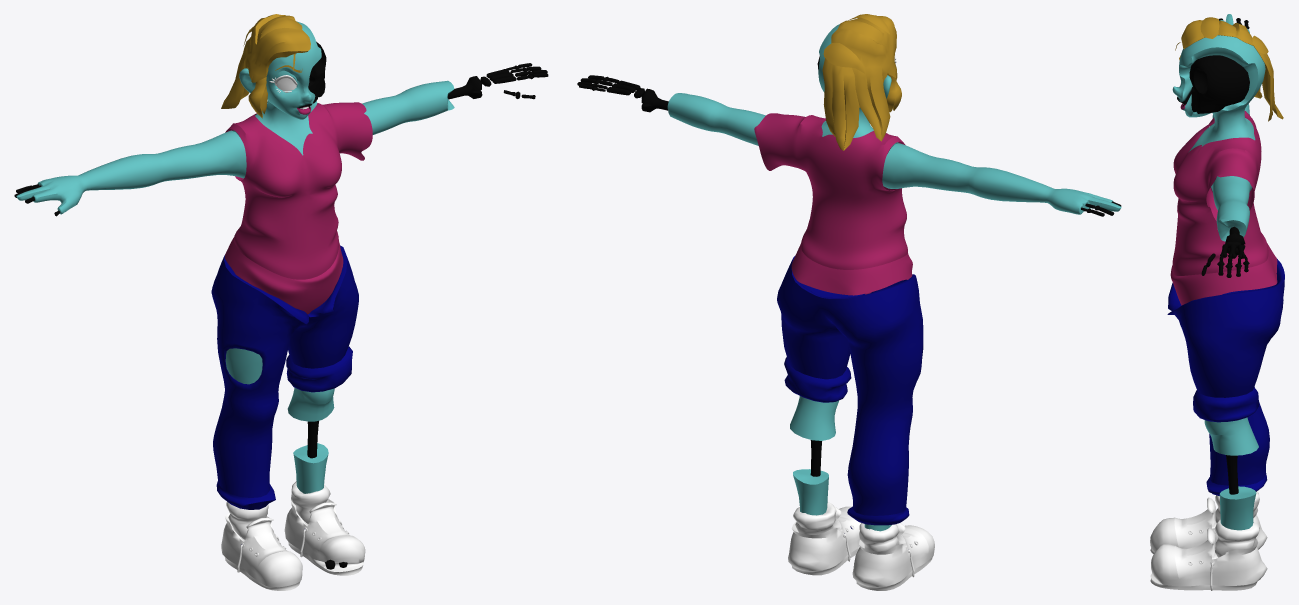
File: Zombie Girl.fbx
The picture shows the model from 3 angles, left to right: view 1: azimuth 30°, elevation 25°; view 2: azimuth 150°, elevation 25°; view 3: azimuth 270°, elevation 25°; orthographic projection.
Parts seen in each view (by area): view 1: ZombieGirl; view 2: ZombieGirl; view 3: ZombieGirl.
Boxes of the visible parts, <box> form: ZombieGirl: <box>14,14,548,590</box>; ZombieGirl: <box>577,14,1121,590</box>; ZombieGirl: <box>1150,14,1284,590</box>.
Size of the model in its own units: 18379 by 17919 by 4049.
